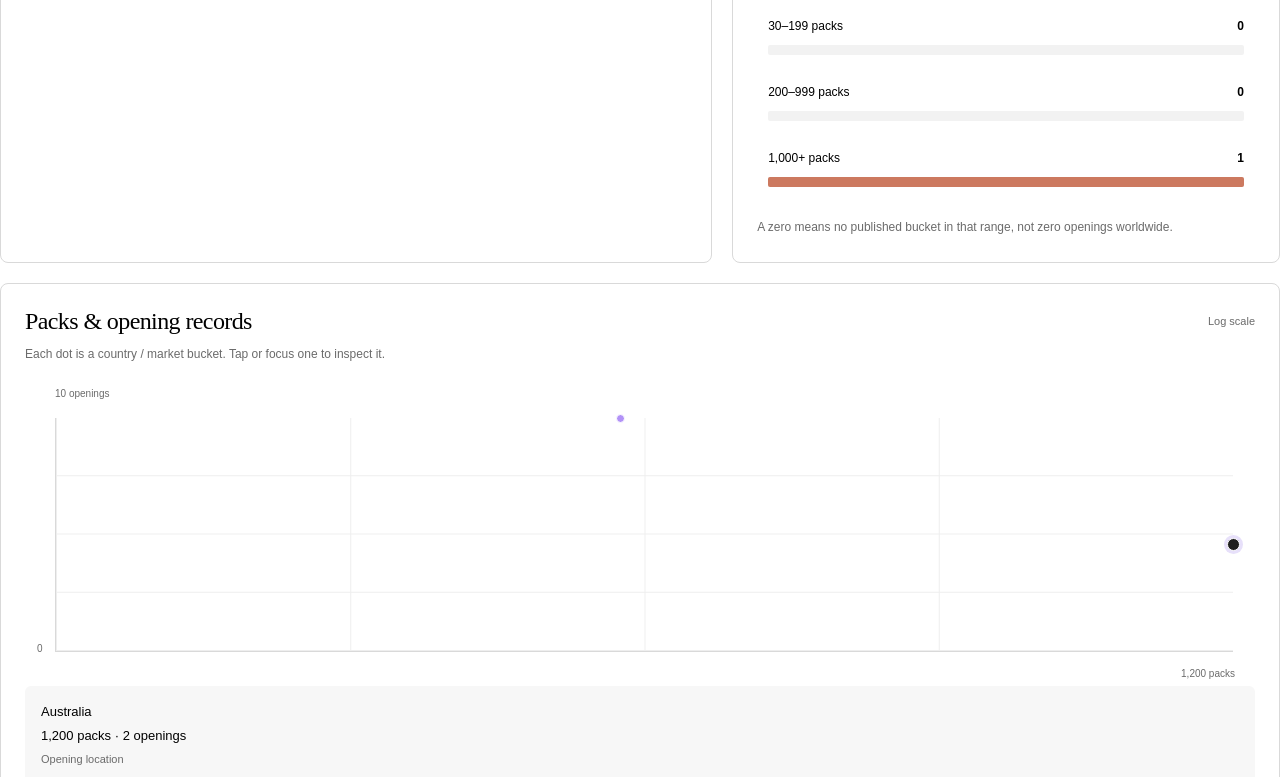
OverviewCharts interactions › links range filtering, ranking selection and keyboard scatter selection
(page scrolled)
Focus the button named "Japan: 29 packs, 10 openings" at x=620, y=418, box [606,404,634,432]
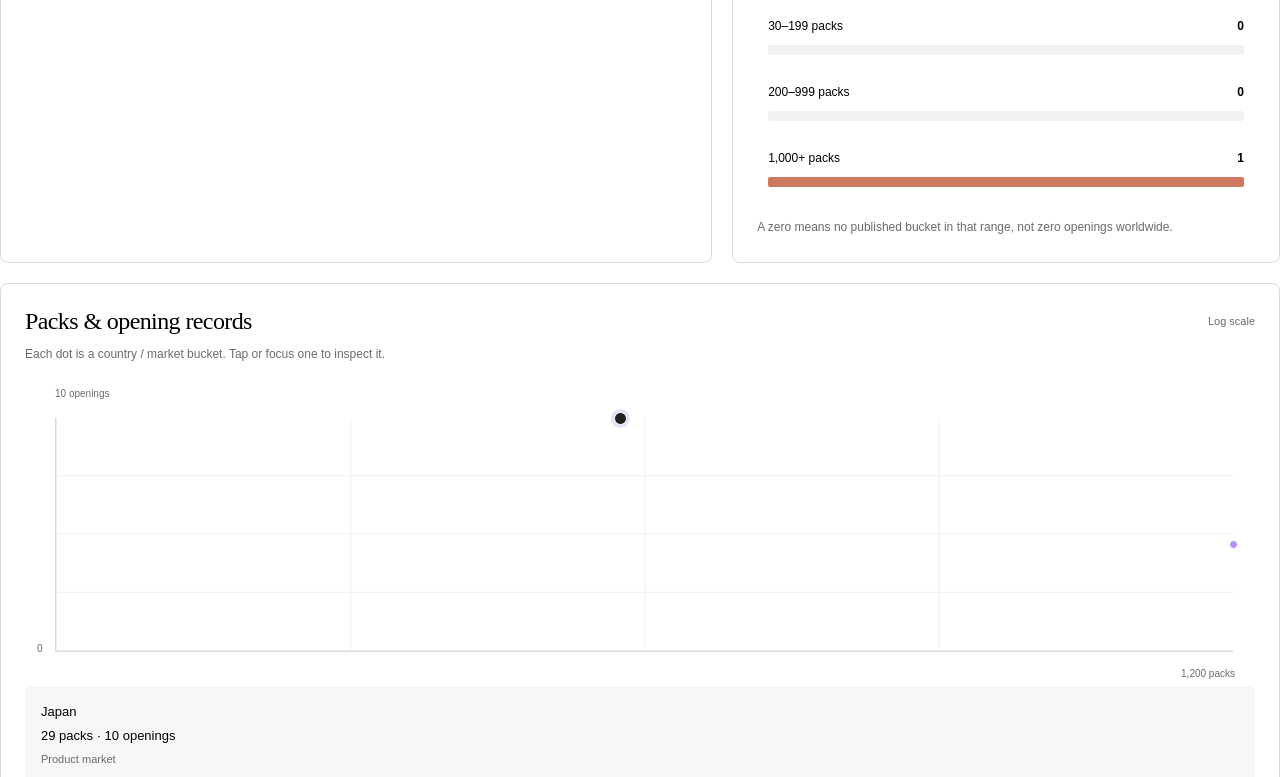
Click the button "1,000+ packs 1" at x=804, y=158, box [757,138,1255,198]
(page scrolled)
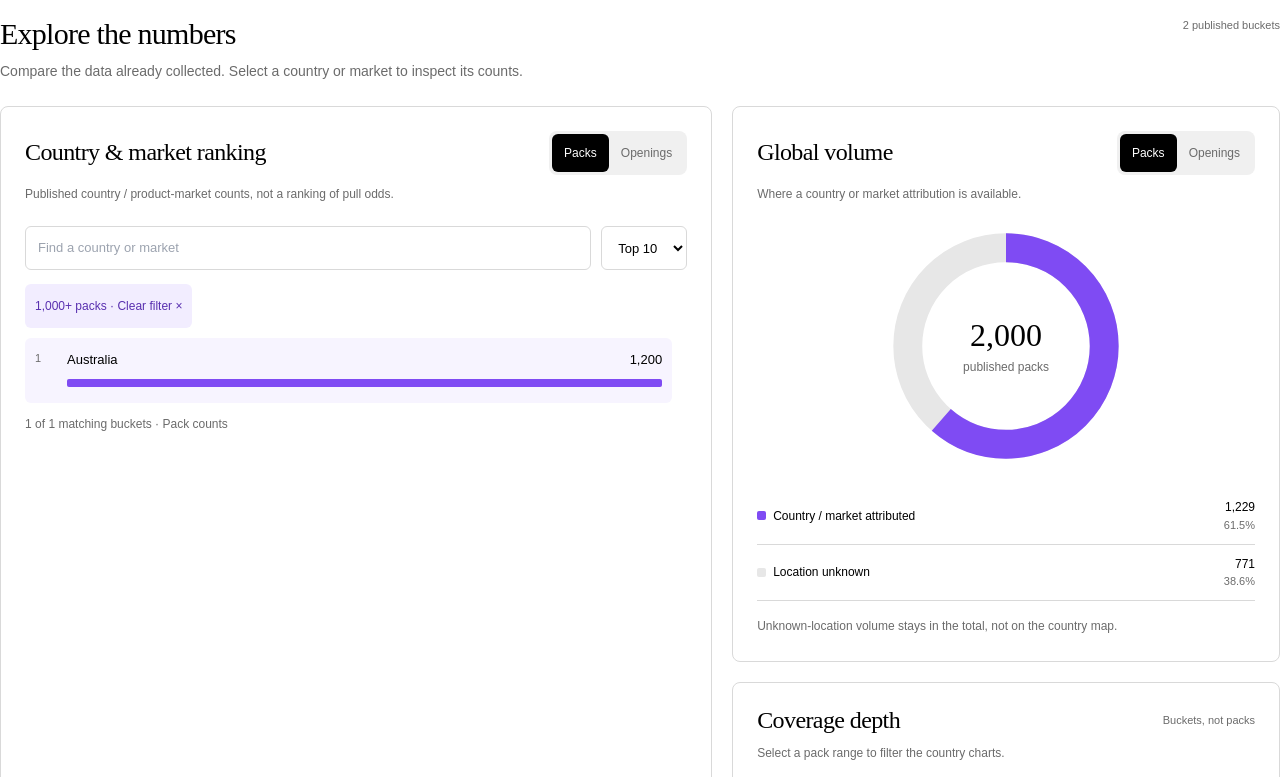
Click the button "1,000+ packs · Clear filter ×" at x=109, y=306, box [25,284,192,328]
(page scrolled)
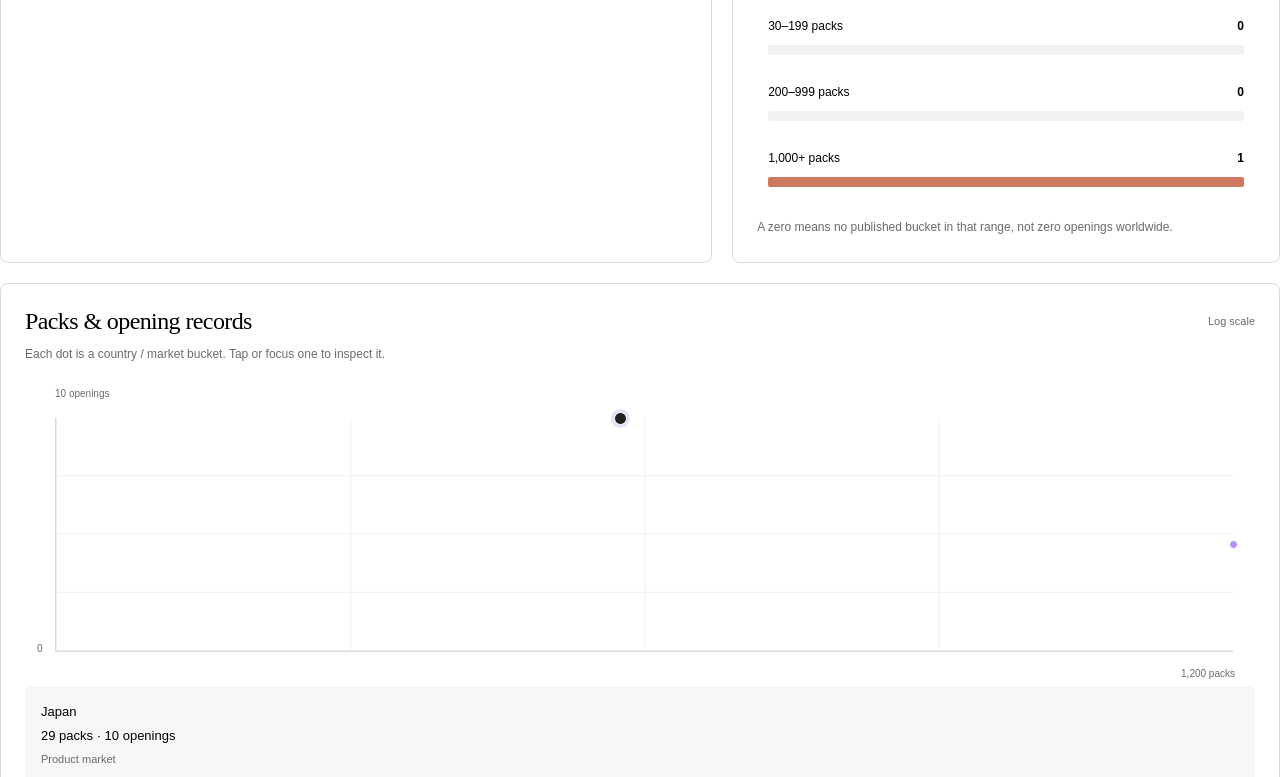
Expected: the button named "Japan: 29 packs, 10 openings" is shown, [606,404,634,432]
